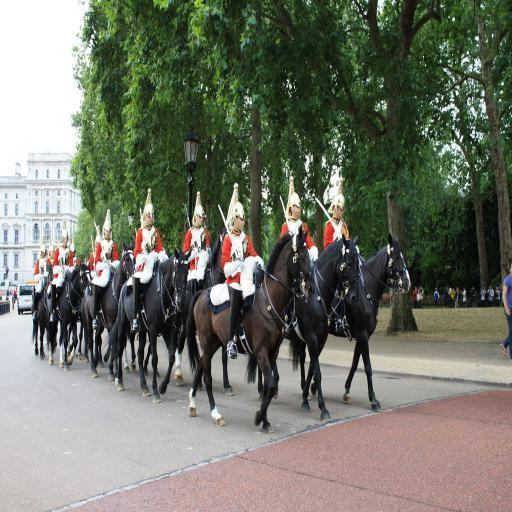horse: (32, 222, 411, 434)
